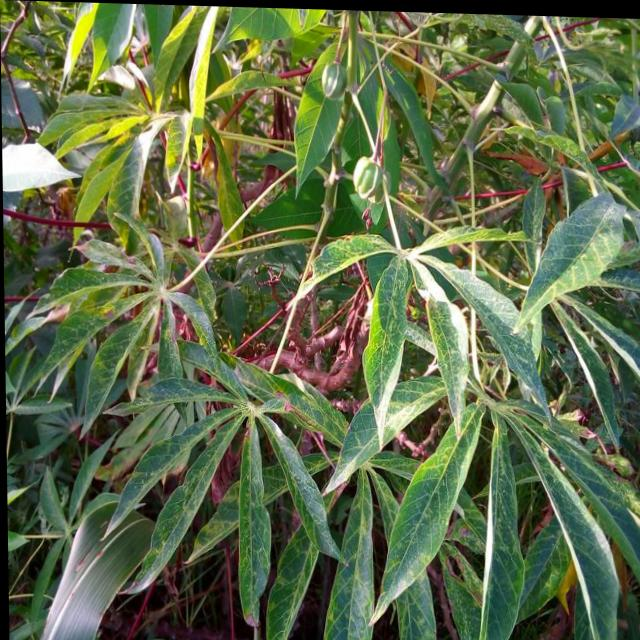Mosaico: (31, 252, 228, 377), (64, 71, 183, 234), (304, 220, 423, 340)
